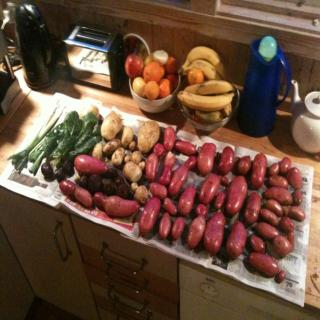Potato: (58, 110, 306, 282), (98, 111, 120, 142)
